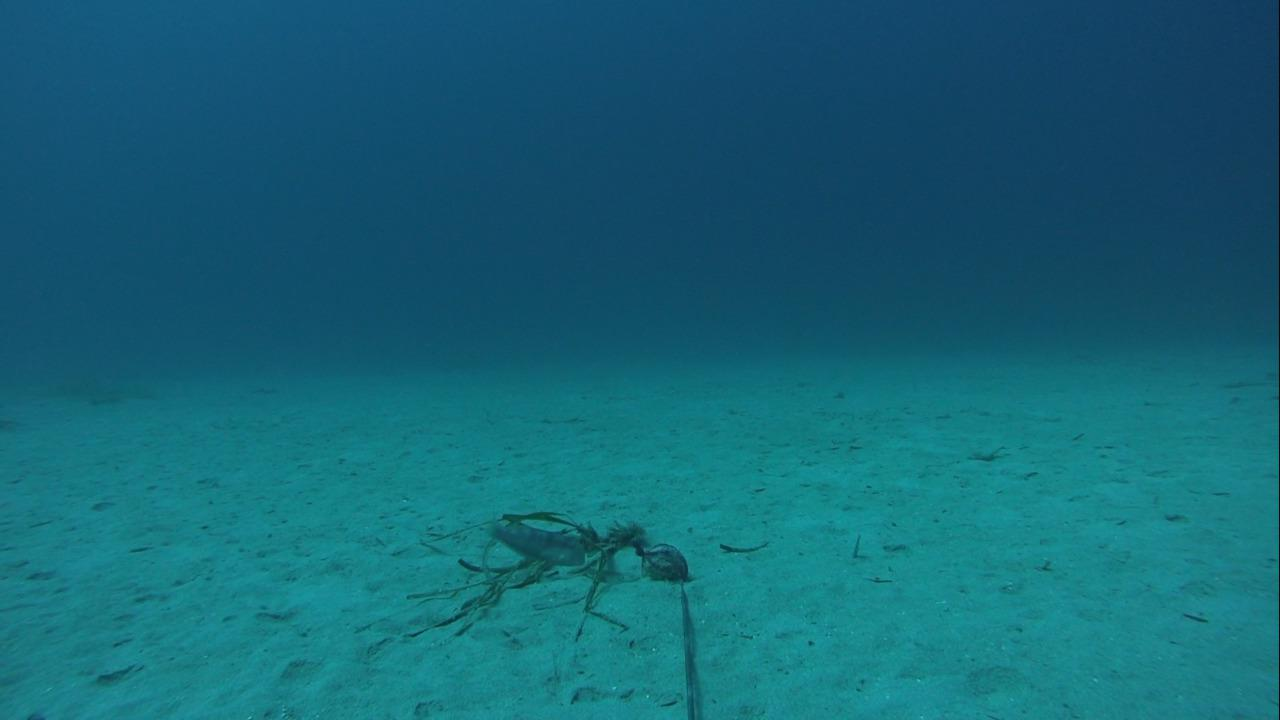raor: (484, 511, 589, 571)
